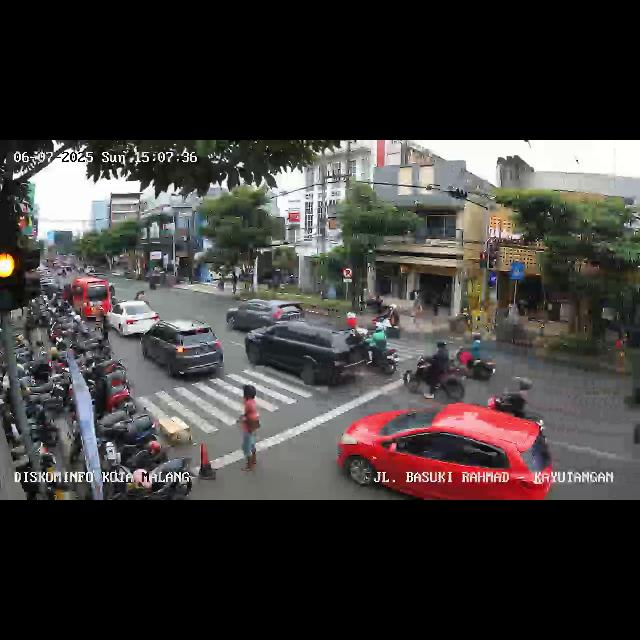car: (338, 402, 556, 500), (248, 320, 372, 394), (142, 321, 226, 382), (228, 297, 306, 331), (105, 300, 161, 340), (68, 276, 110, 320)
motorcycle: (404, 341, 468, 402), (342, 320, 400, 374), (488, 373, 544, 422), (454, 332, 498, 382)
person: (235, 389, 263, 475)
